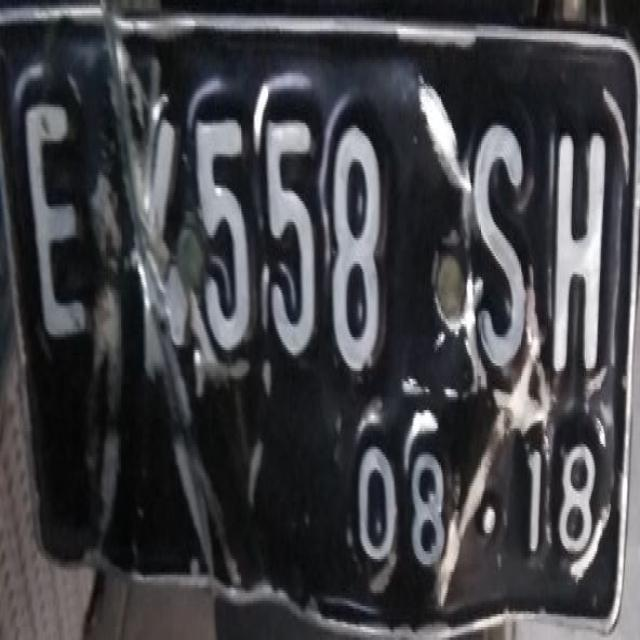plate: (1, 5, 638, 632)
